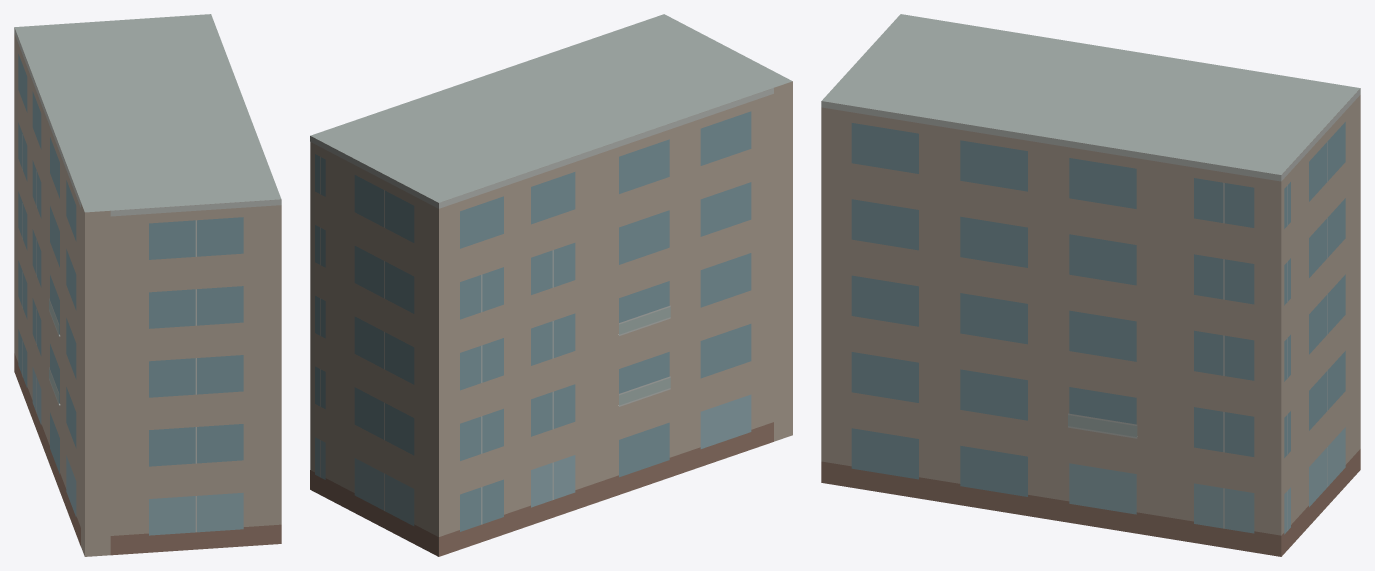
File: survey-upis-32880066.glb
3 views of the same model, side by side, from view 1: azimuth 30°, elevation 25°; view 2: azimuth 150°, elevation 25°; view 3: azimuth 270°, elevation 25° (orthographic). The views are drawn at different scales.
Parts seen in each view (by area): view 1: survey-upis-32880066.tmp; view 2: survey-upis-32880066.tmp; view 3: survey-upis-32880066.tmp.
Boxes of the visible parts, x1,y1,x2,y2 form: survey-upis-32880066.tmp: [14, 14, 281, 556]; survey-upis-32880066.tmp: [310, 14, 792, 556]; survey-upis-32880066.tmp: [821, 14, 1360, 556].
Bounding box in the file's own units: 13.13 × 14.5 × 18.57.
